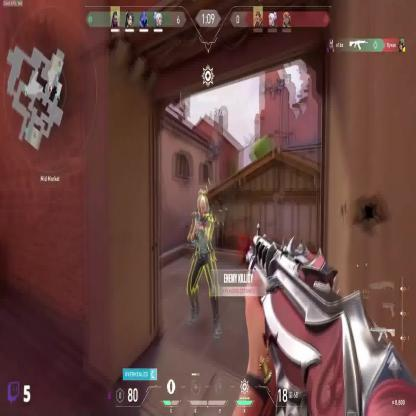enemy: (184, 188, 221, 340)
enemy_head: (196, 190, 208, 218)
